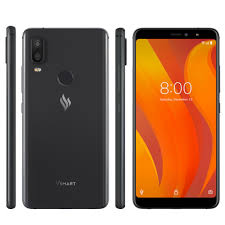vsmart: (17, 23, 111, 210), (130, 28, 225, 212)
